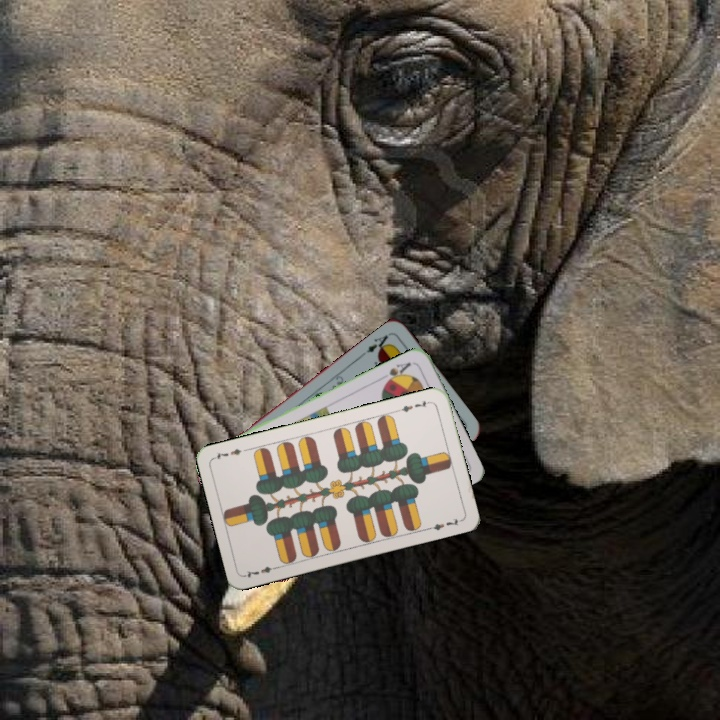E7: (394, 396, 434, 415), (241, 562, 281, 580)
EA: (358, 329, 393, 359)
SA: (381, 358, 414, 387)
